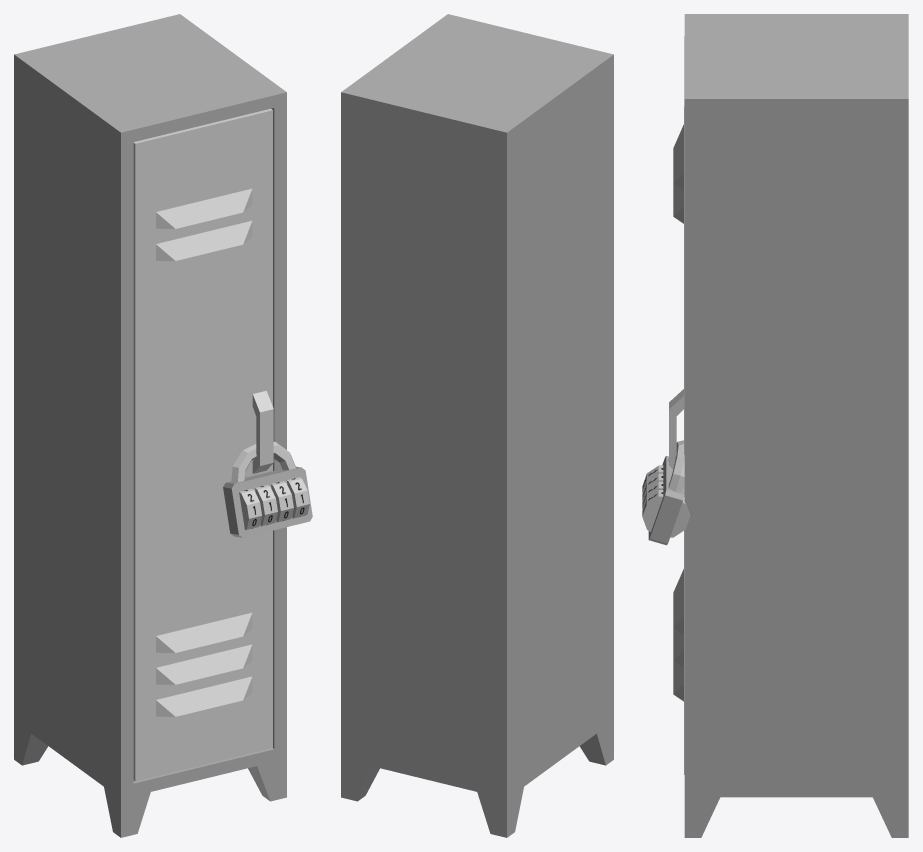
Rendered from locker_withlock.glb.
3 views of the same model, side by side, from view 1: azimuth 30°, elevation 25°; view 2: azimuth 150°, elevation 25°; view 3: azimuth 270°, elevation 25° (orthographic). The views are drawn at different scales.
Parts seen in each view (by area): view 1: lock10_digits.001; view 2: lock10_digits.001; view 3: lock10_digits.001.
Boxes of the visible parts, left/top/right/bottom form: lock10_digits.001: left=14, top=14, right=312, bottom=837; lock10_digits.001: left=341, top=14, right=613, bottom=837; lock10_digits.001: left=642, top=14, right=908, bottom=837.
Size of the model in its own units: 0.5293 by 2.03 by 0.6642.
Materials: 5 (1 with a texture image).
